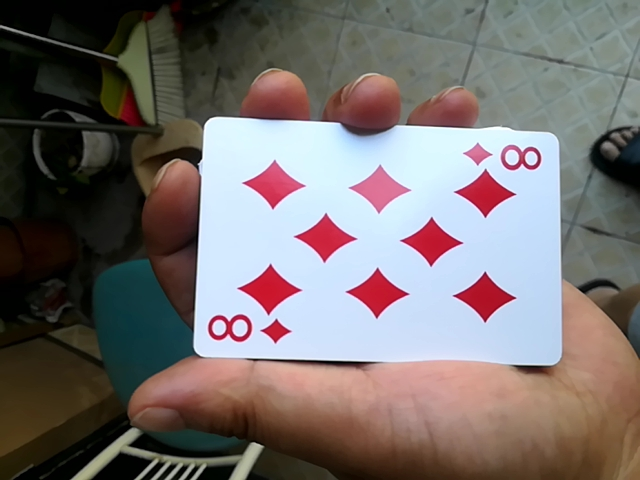fk 8: (190, 112, 563, 373)
